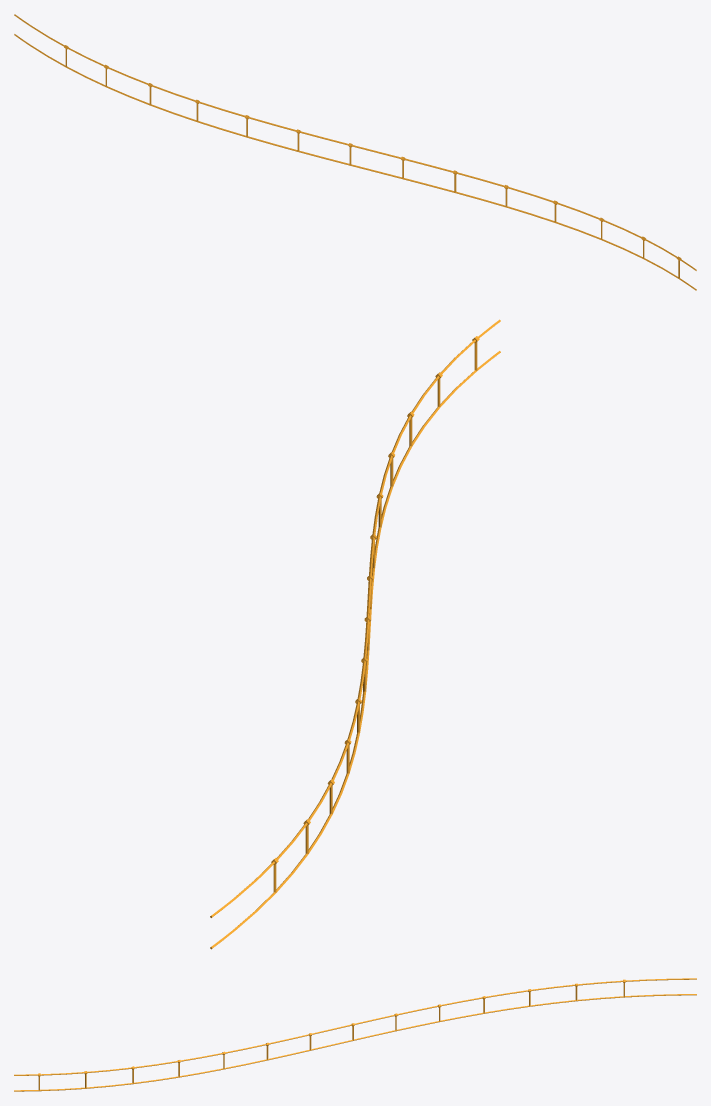
Rendered from SM_Train_Wiring_Switch_Platform.fbx.
3 renders of one model, top to bottom at view 1: azimuth 30°, elevation 25°; view 2: azimuth 150°, elevation 25°; view 3: azimuth 270°, elevation 25°, orthographic. The views are drawn at different scales.
Parts seen in each view (by area): view 1: SM_Train_Wiring_Switch_Platform; view 2: SM_Train_Wiring_Switch_Platform; view 3: SM_Train_Wiring_Switch_Platform.
Part boxes in pixels (bbox=[...]): SM_Train_Wiring_Switch_Platform: bbox=[14, 14, 696, 290]; SM_Train_Wiring_Switch_Platform: bbox=[210, 319, 500, 949]; SM_Train_Wiring_Switch_Platform: bbox=[14, 978, 696, 1091].
Size of the model in its own units: 10.07 by 0.8615 by 30.
